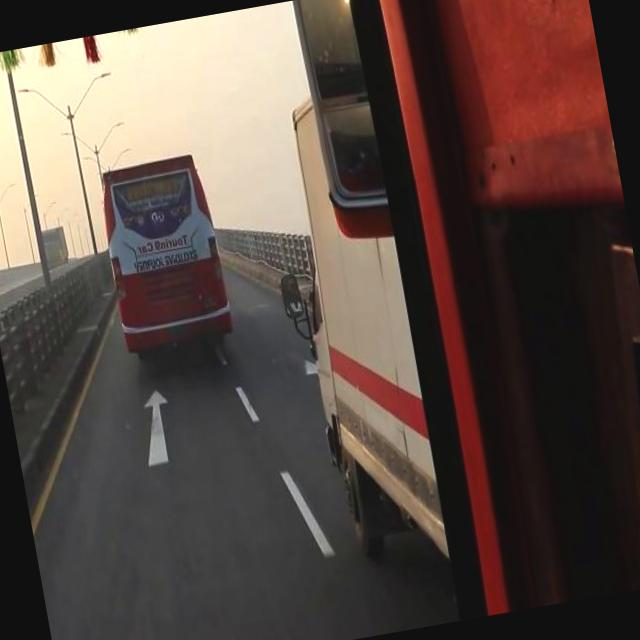bus: (94, 150, 234, 350)
truck: (250, 81, 460, 572), (38, 222, 70, 266)
